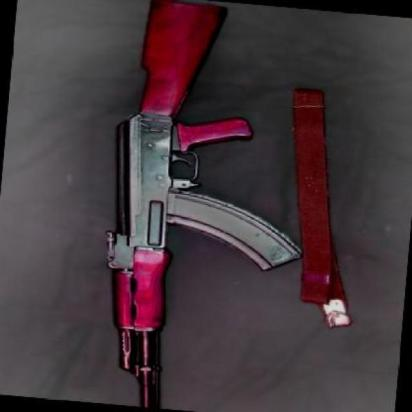Gun: (103, 0, 306, 412)
